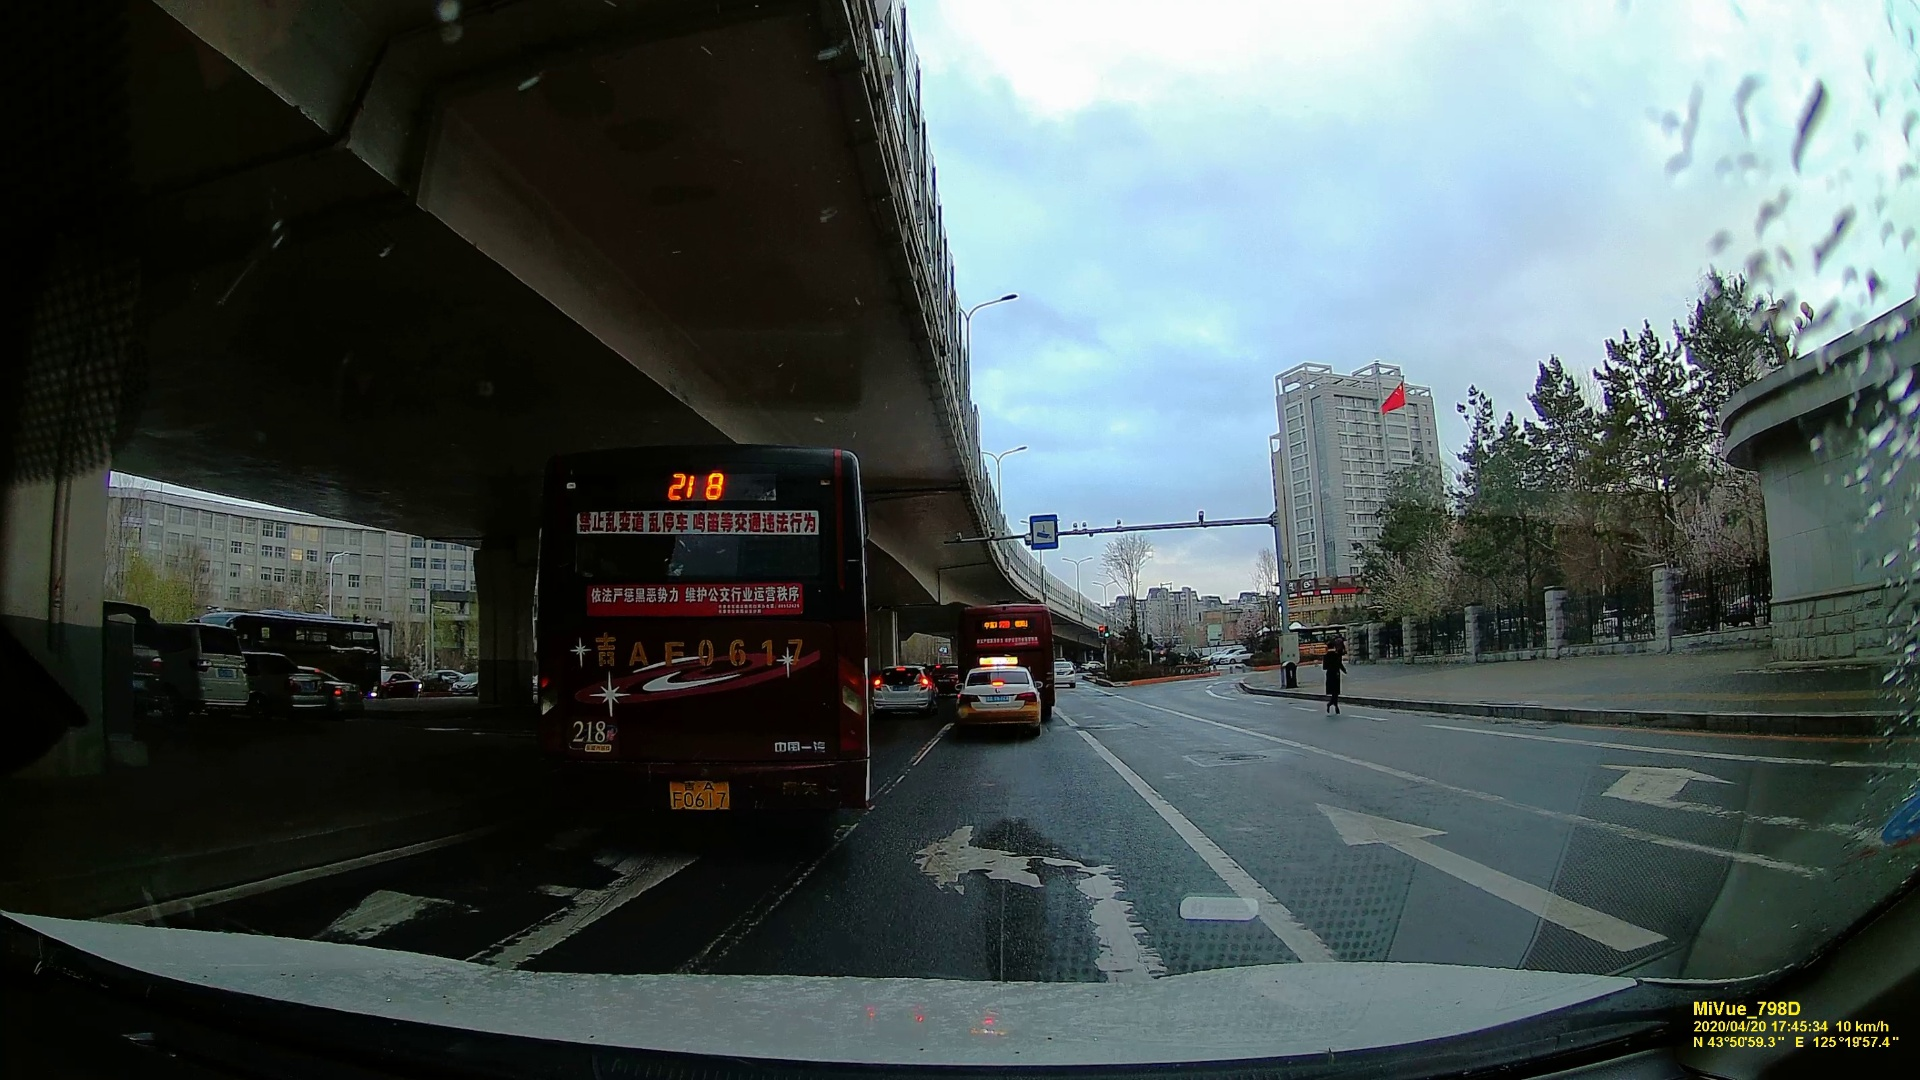bus: (952, 610, 1050, 732)
person: (1321, 641, 1346, 716)
traffic_sign: (532, 446, 864, 838), (1030, 518, 1056, 548)
vehicle: (954, 663, 1043, 731), (871, 661, 939, 715), (1053, 660, 1079, 684)
